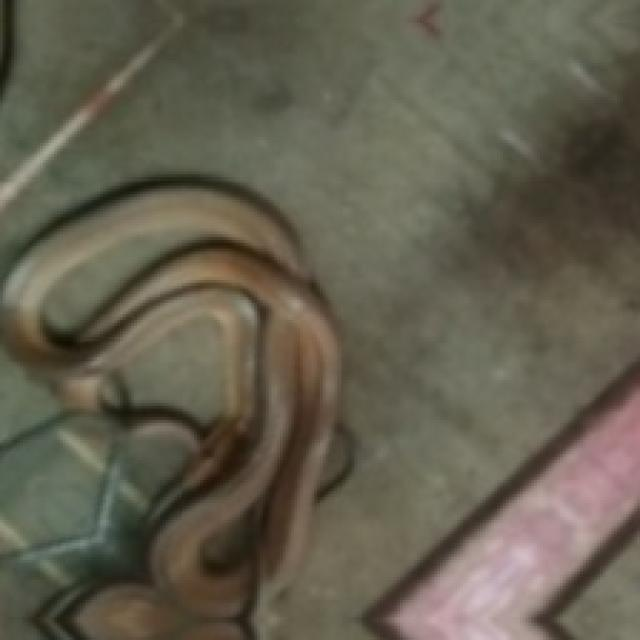red-tailed green ratsnake: (0, 174, 349, 637), (0, 177, 337, 637)
